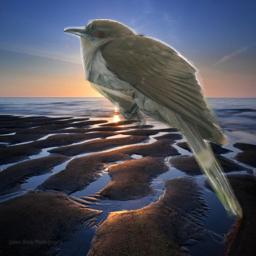Cuckoo: (64, 19, 243, 222)
